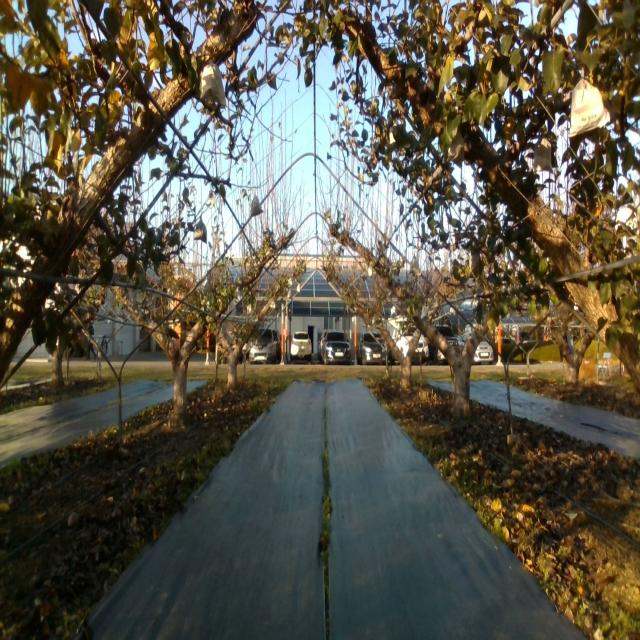pearbags: (569, 78, 611, 137), (199, 58, 226, 108), (533, 136, 554, 174), (194, 216, 206, 244), (249, 194, 263, 217), (409, 257, 421, 276)
